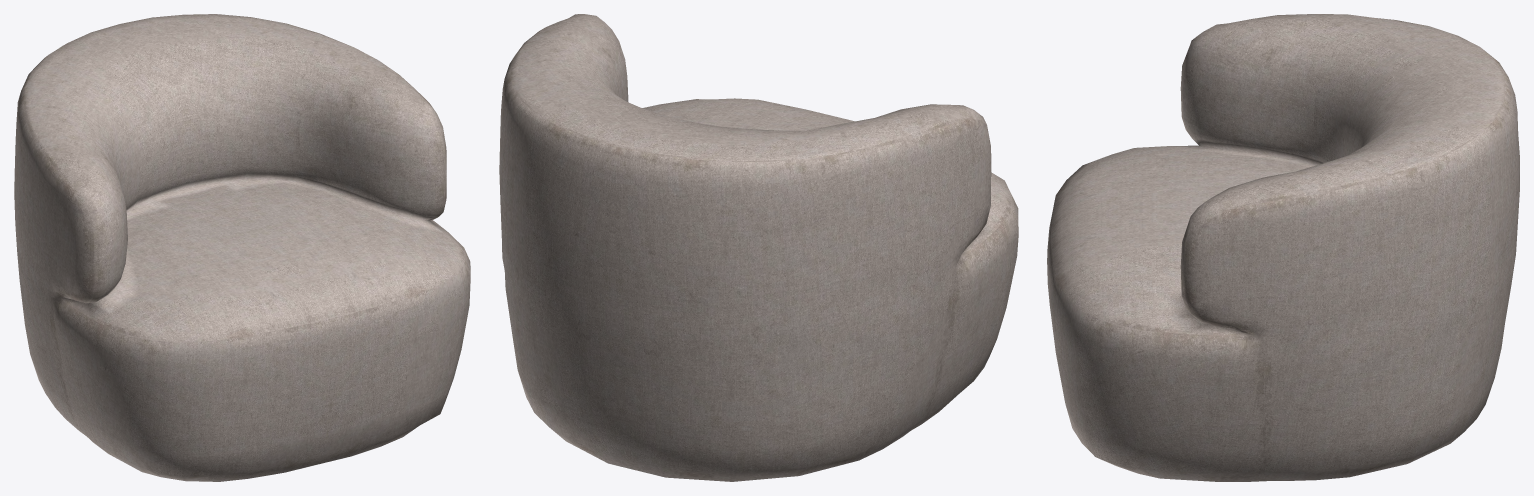
The model's file is armchair.glb.
The picture shows the model from 3 angles, left to right: view 1: azimuth 30°, elevation 25°; view 2: azimuth 150°, elevation 25°; view 3: azimuth 270°, elevation 25°; orthographic projection. The views are drawn at different scales.
Parts seen in each view (by area): view 1: Cylinder001_Material #2146932551_0; view 2: Cylinder001_Material #2146932551_0; view 3: Cylinder001_Material #2146932551_0.
Part boxes in pixels (x1,y1,x2,y2): Cylinder001_Material #2146932551_0: [14, 14, 470, 481]; Cylinder001_Material #2146932551_0: [499, 14, 1018, 481]; Cylinder001_Material #2146932551_0: [1047, 14, 1519, 481].
Size of the model in its own units: 0.8333 by 0.64 by 0.8587.
Materials: 1 (1 with a texture image).
